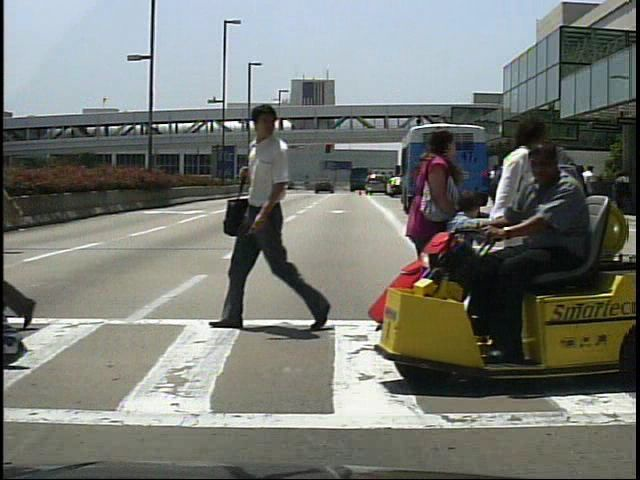person: (478, 143, 610, 376), (217, 101, 323, 344), (463, 109, 563, 365), (400, 124, 465, 355), (0, 133, 75, 327), (441, 188, 484, 320), (582, 163, 602, 218), (499, 166, 517, 219), (493, 164, 512, 213)
